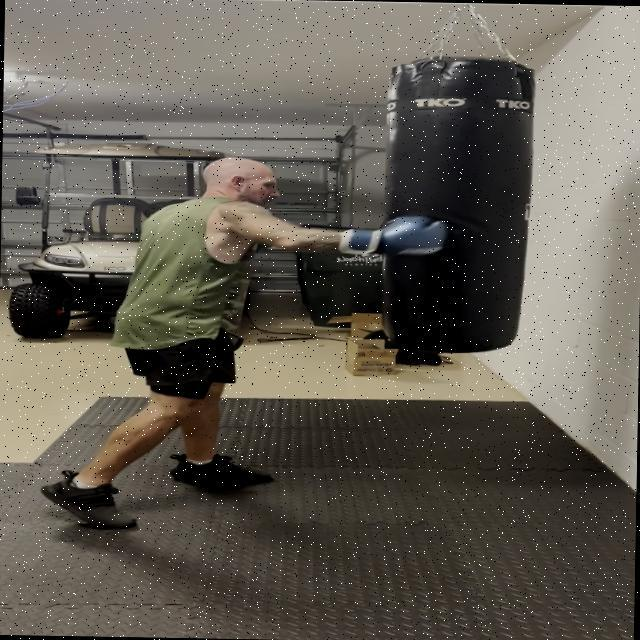bag: (373, 47, 548, 361)
hook: (123, 144, 454, 298)
